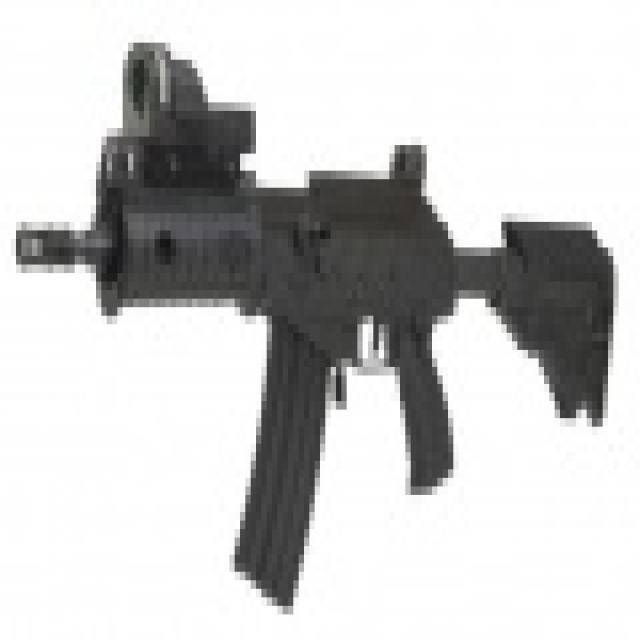Gun: (7, 19, 607, 616)
